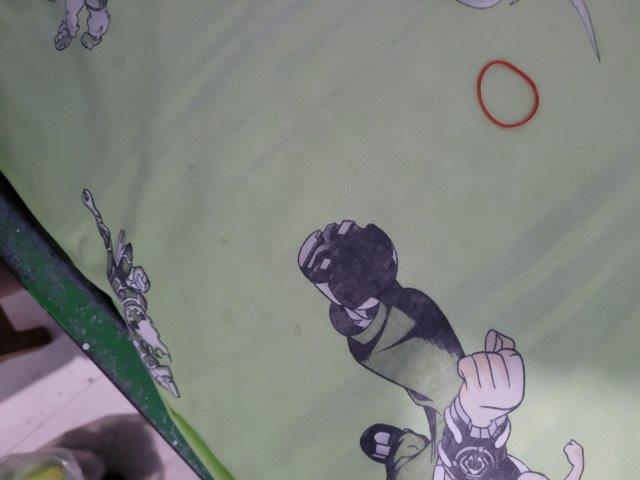karet: (478, 59, 539, 129)
